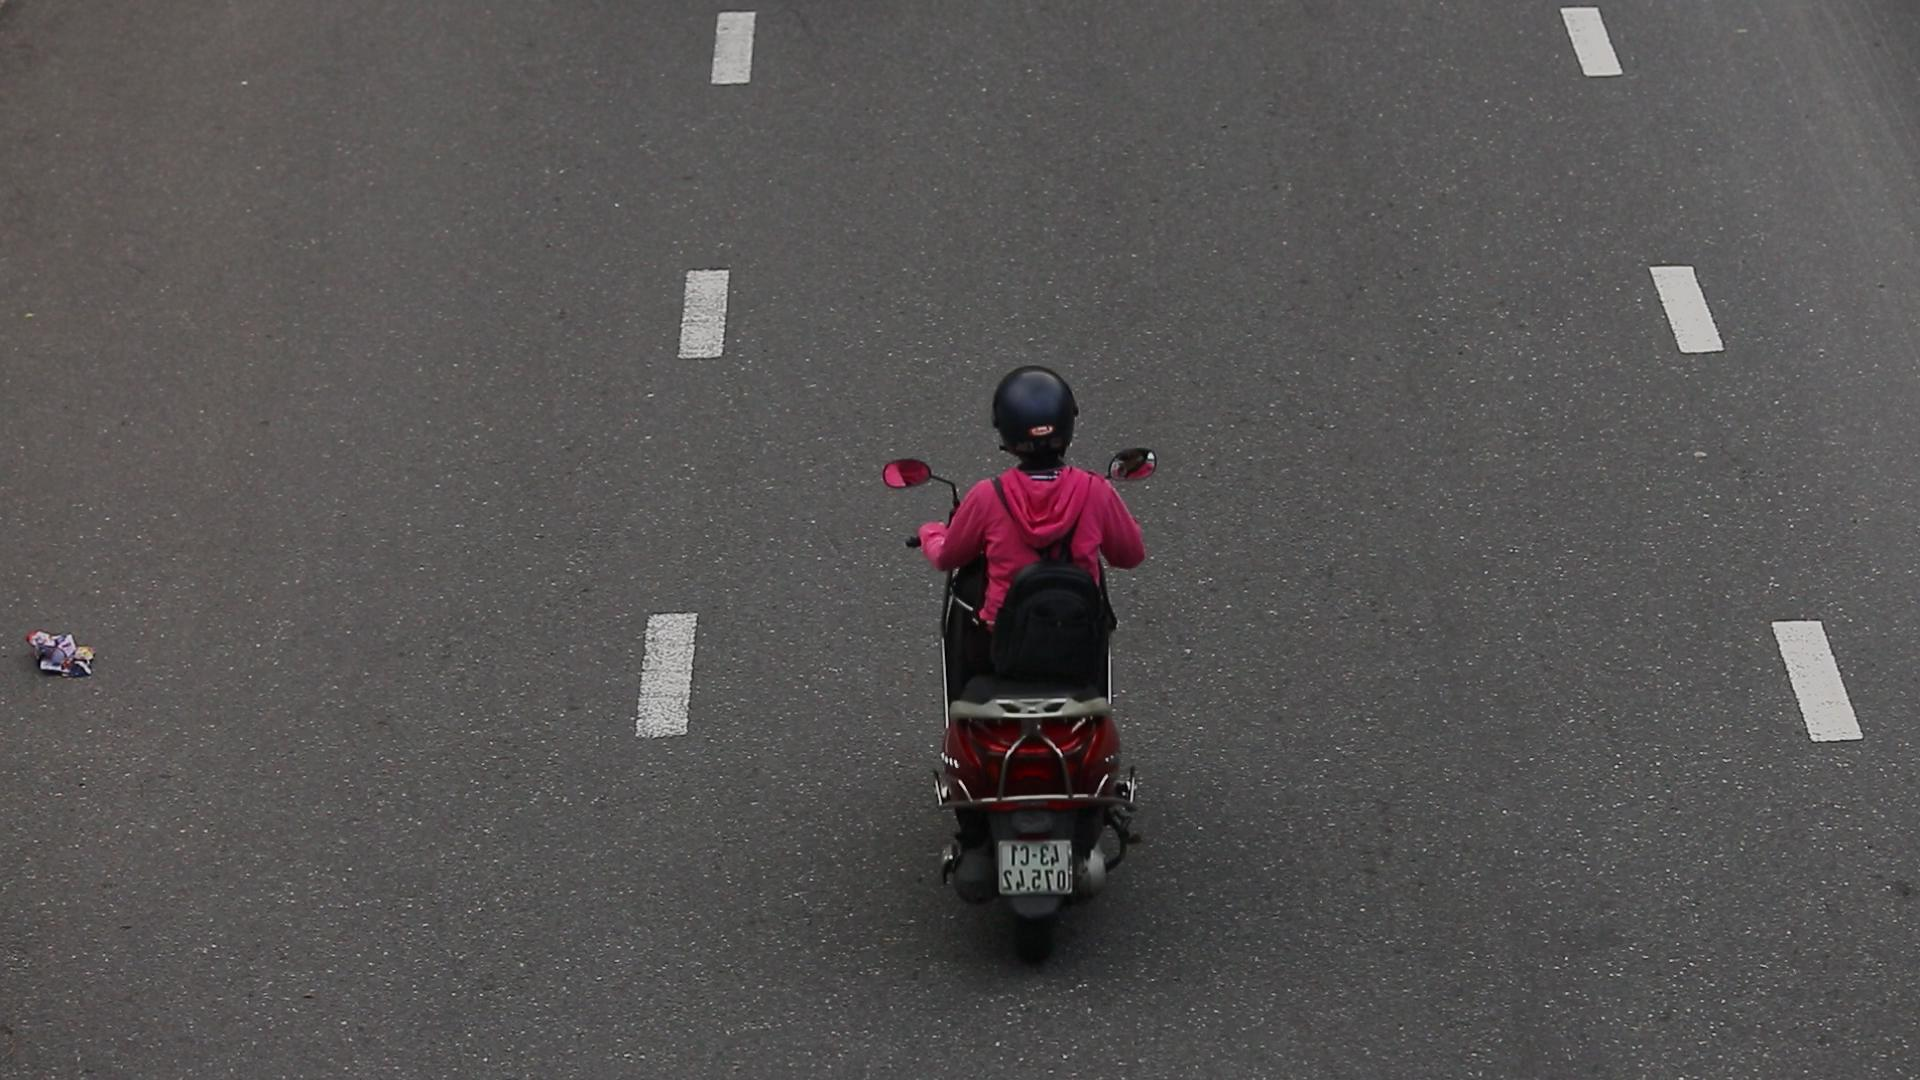motobike: (873, 340, 1204, 989)
